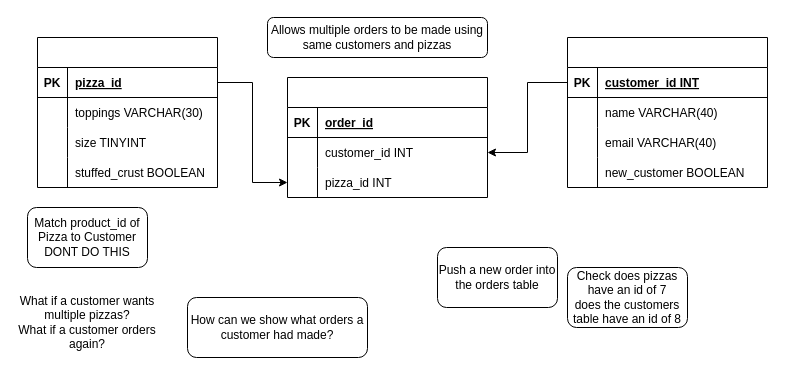
The diagram is 785 pixels wide and 375 high, and some of its shapes have lost their labels. Each missing label, with the box of its shape:
Customers: (566, 36, 768, 188)
orders: (286, 76, 488, 198)
Pizzas: (36, 36, 218, 188)
